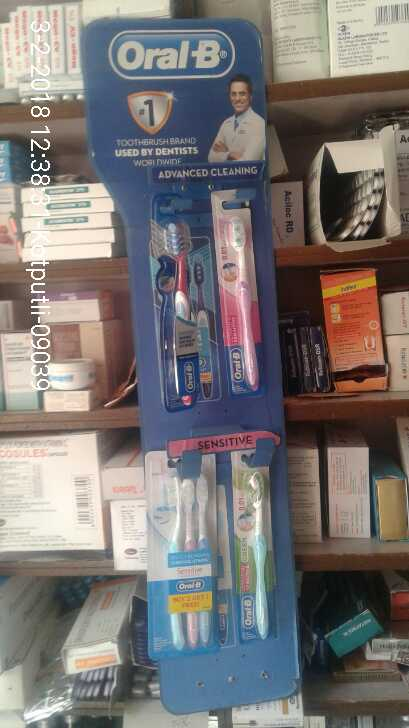oralb: (148, 452, 220, 656), (153, 206, 205, 406), (232, 452, 279, 642), (223, 196, 265, 394)
